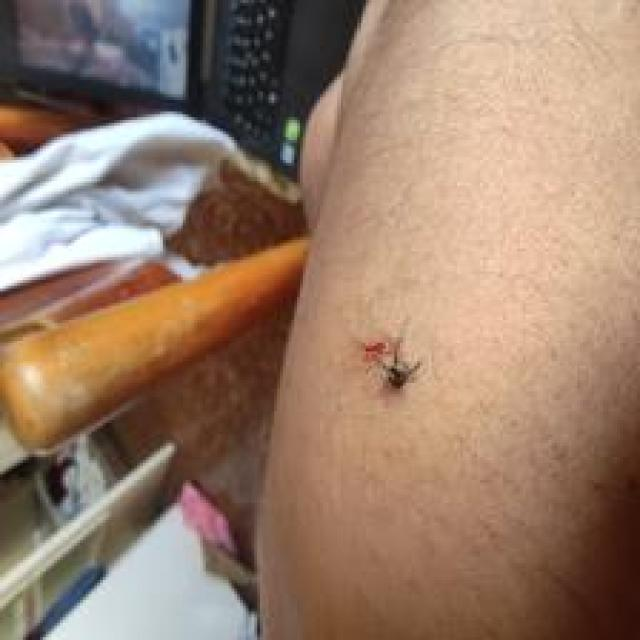Aedes albopictus: (360, 336, 423, 390)
